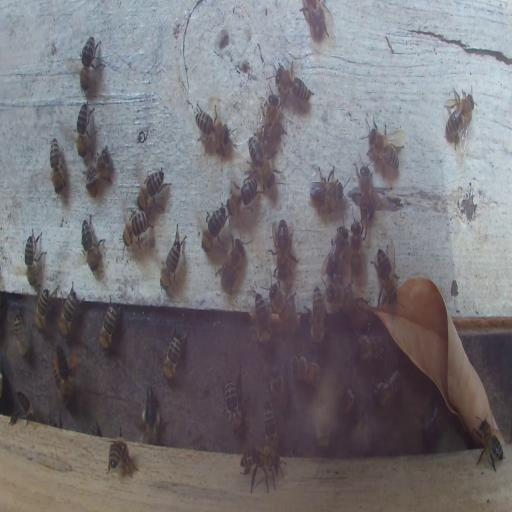nonpollenbee: (238, 446, 287, 494), (442, 85, 476, 153), (364, 118, 406, 172), (266, 279, 300, 341), (222, 362, 250, 436), (192, 103, 233, 153), (275, 60, 314, 107), (472, 416, 504, 472), (160, 223, 186, 291), (310, 166, 344, 216), (371, 246, 399, 306), (320, 217, 348, 277), (215, 238, 246, 292), (247, 136, 278, 188), (136, 168, 171, 214), (105, 432, 138, 480), (80, 215, 105, 278), (270, 219, 298, 275), (224, 175, 258, 221), (85, 146, 114, 195), (79, 35, 103, 93), (160, 328, 185, 382), (201, 203, 228, 253), (300, 0, 332, 41), (24, 229, 46, 288), (370, 367, 403, 406), (262, 91, 284, 149), (74, 99, 95, 159), (98, 297, 120, 351), (123, 208, 153, 246), (347, 216, 365, 279), (59, 282, 80, 335), (309, 285, 326, 347), (324, 279, 354, 312), (253, 292, 272, 344), (356, 162, 373, 220), (355, 330, 386, 361), (292, 352, 320, 386), (315, 406, 332, 460), (49, 136, 64, 195), (14, 308, 28, 359), (35, 287, 50, 330), (268, 370, 284, 408), (264, 400, 277, 446), (14, 391, 32, 422), (340, 387, 354, 417)
pollenbee: (53, 343, 76, 408), (140, 384, 164, 444)
